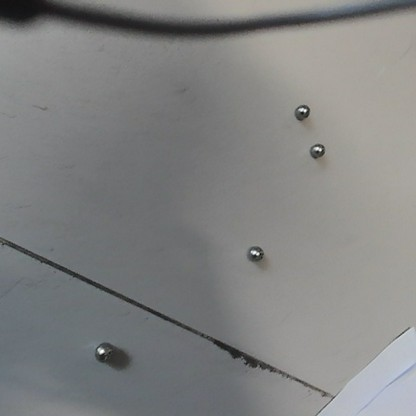ironball: (96, 341, 113, 361), (246, 246, 262, 262), (293, 105, 307, 119), (309, 143, 322, 158)
